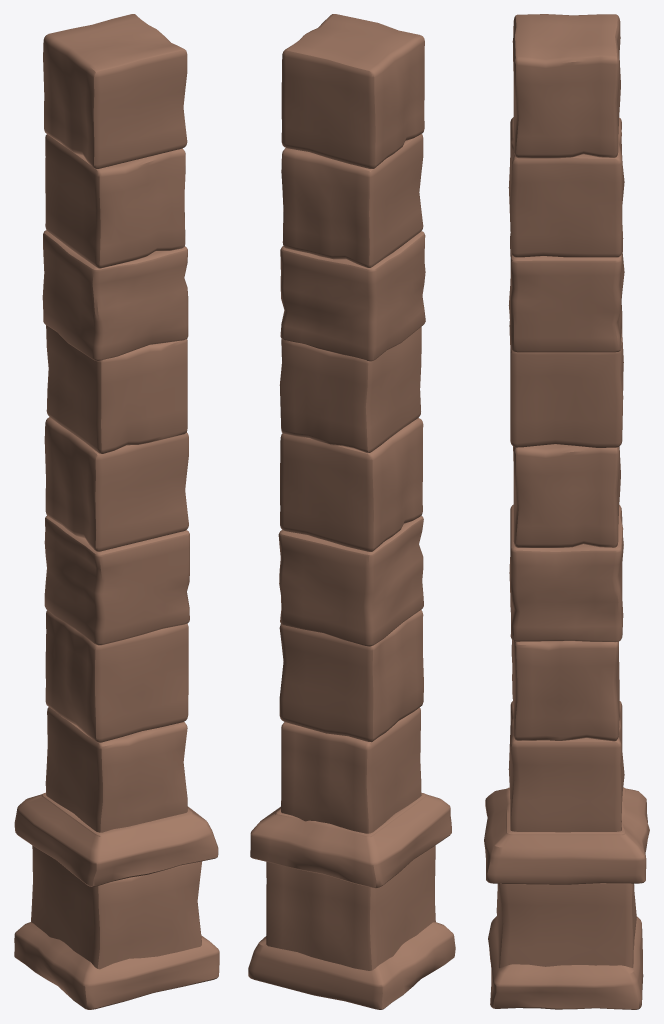
File: fbx_Pillar_Stone_01.fbx
The picture shows the model from 3 angles, left to right: view 1: azimuth 30°, elevation 25°; view 2: azimuth 150°, elevation 25°; view 3: azimuth 270°, elevation 25°; orthographic projection.
Visible parts, largest first — view 1: Cube.004; view 2: Cube.004; view 3: Cube.004.
Boxes of the visible parts, bbox=[...] form: Cube.004: bbox=[14, 14, 219, 1009]; Cube.004: bbox=[248, 14, 455, 1009]; Cube.004: bbox=[484, 14, 649, 1009].
Size of the model in its own units: 98.64 by 619 by 98.64.
